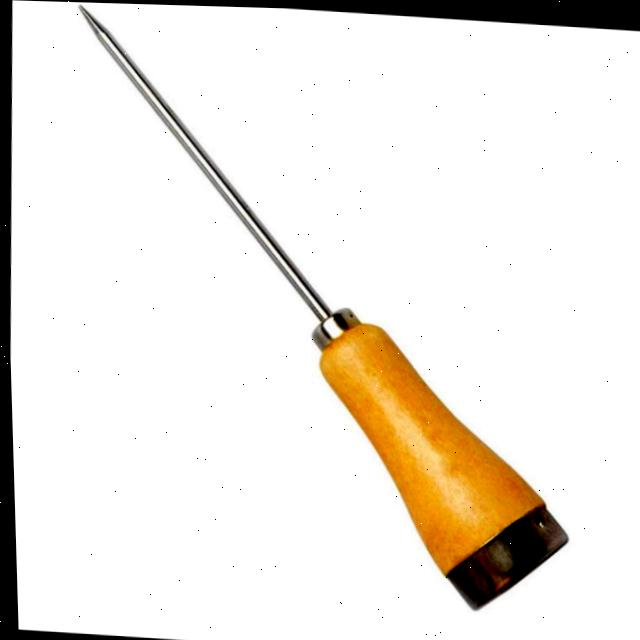ice pick: (54, 1, 586, 615)
